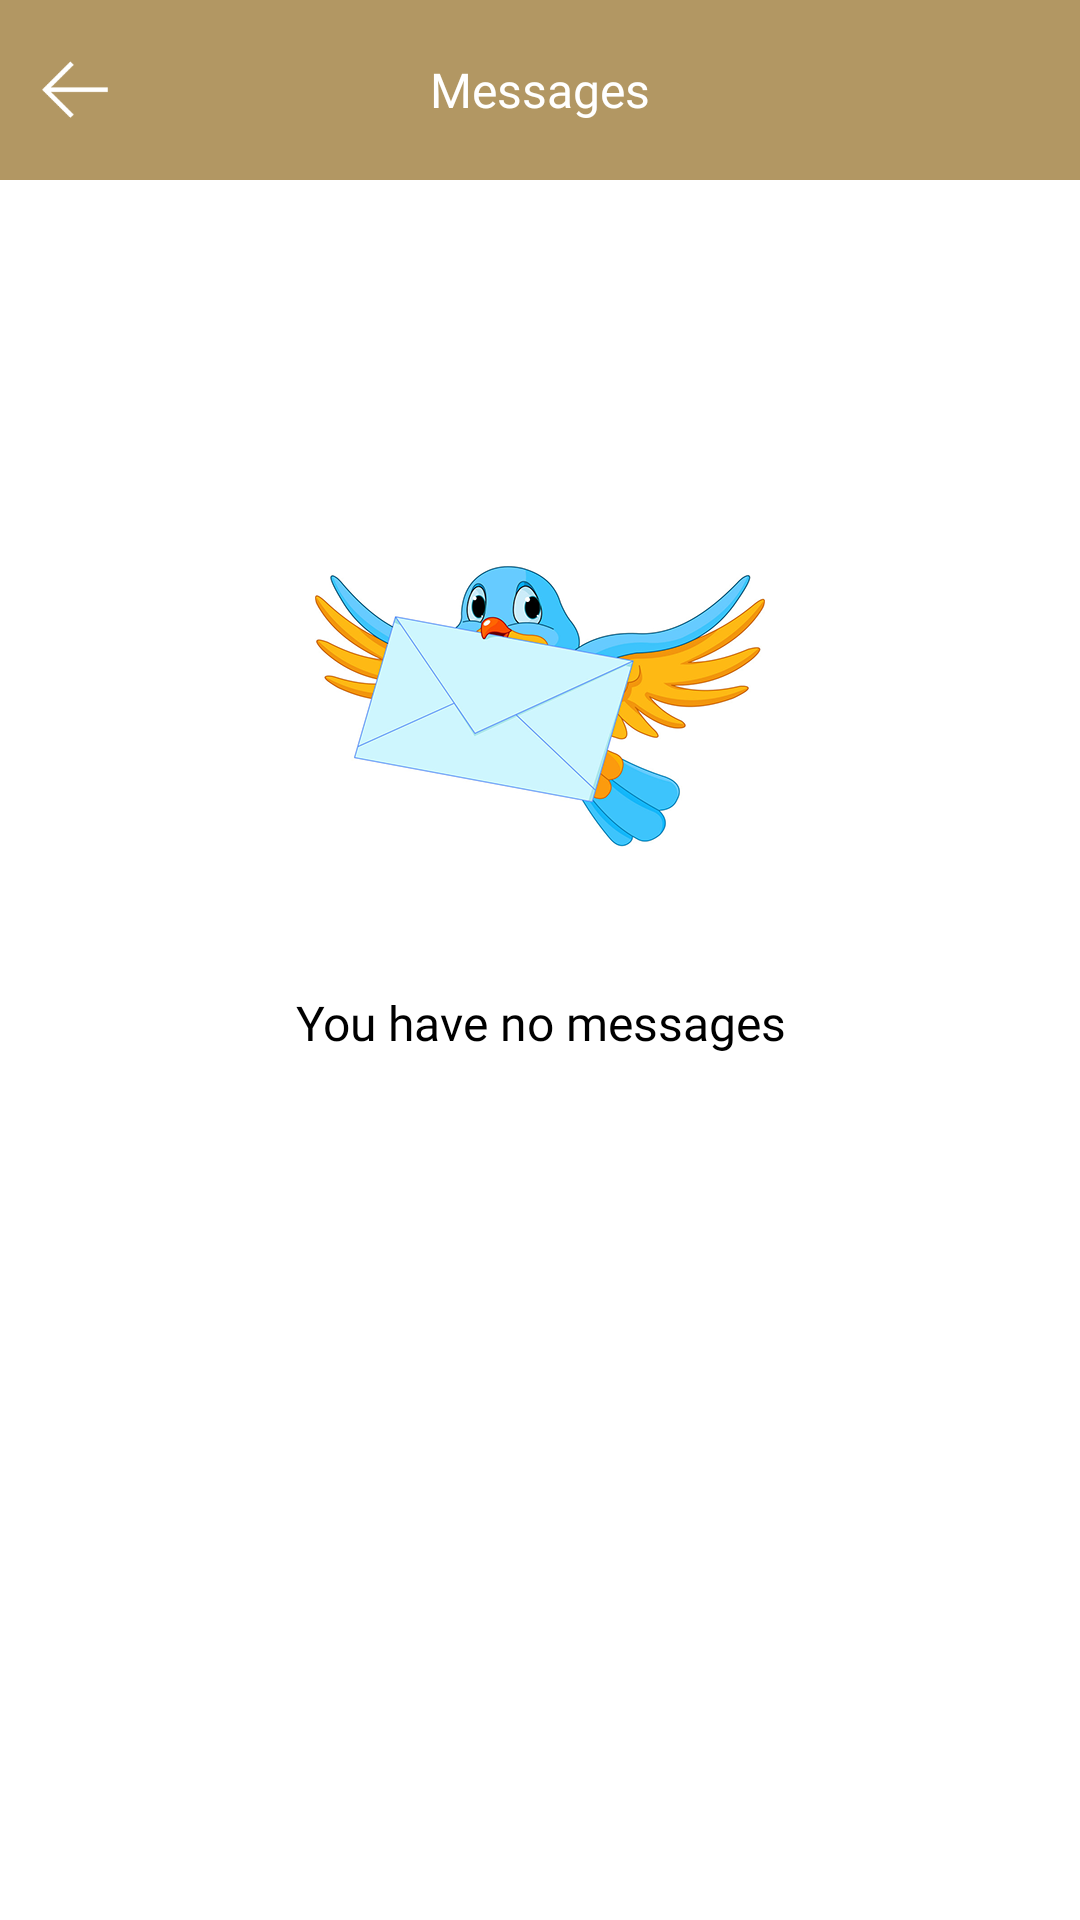

Icons on this 1080px x 1920px Android screen, each with its box as region(x1, y1, x2, y2):
back: region(42, 61, 108, 118)
